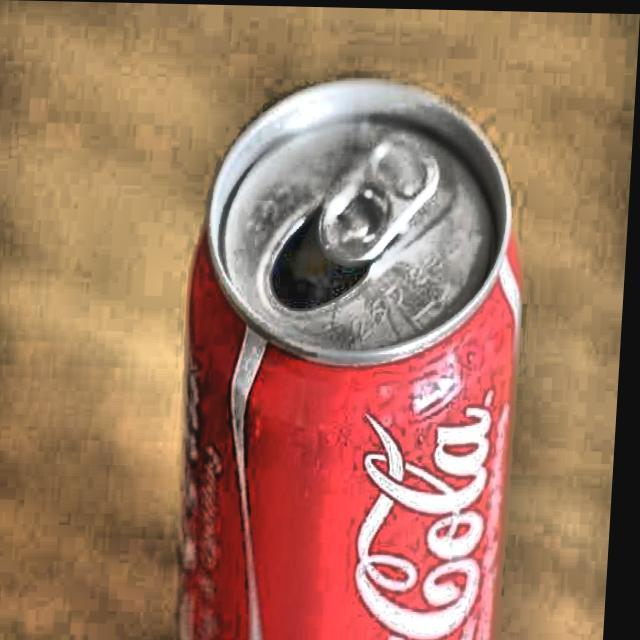Aluminum Can: (163, 63, 536, 640)
